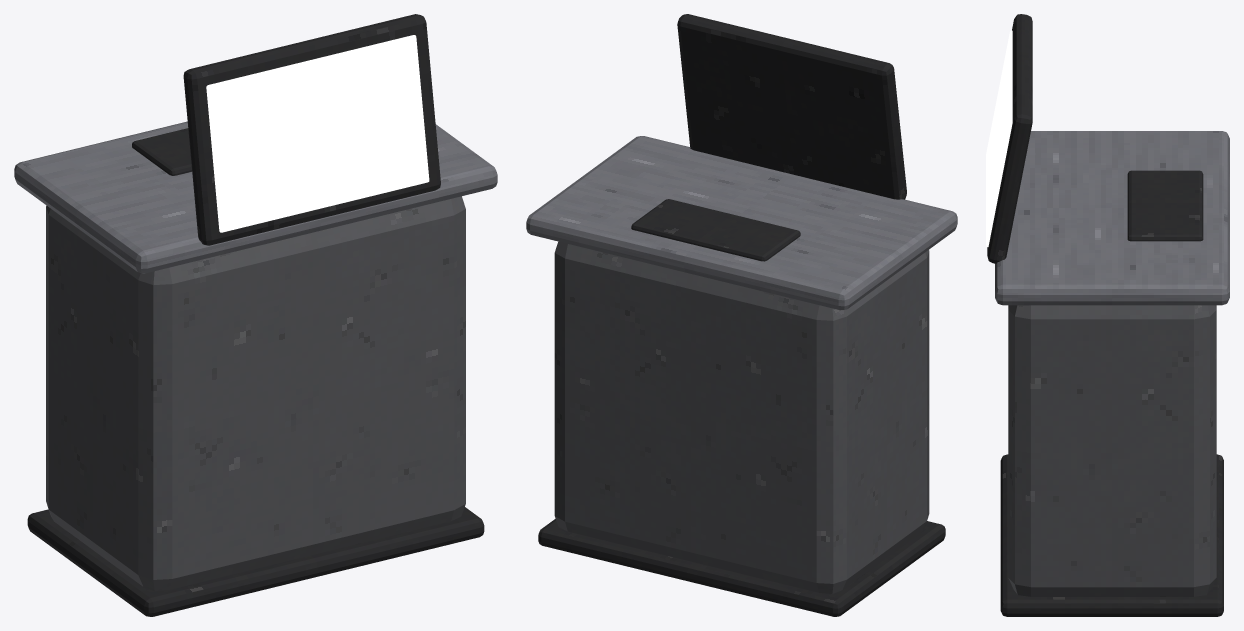
Rendered from decor_bridge_duty_station.glb.
3 views of the same model, side by side, from view 1: azimuth 30°, elevation 25°; view 2: azimuth 150°, elevation 25°; view 3: azimuth 270°, elevation 25° (orthographic). The views are drawn at different scales.
Visible parts, largest first — view 1: DEC_BridgeDutyStation__Console_Body, DEC_BridgeDutyStation__Screen_Glow, DEC_BridgeDutyStation__Desktop, DEC_BridgeDutyStation__Screen_Bezel, DEC_BridgeDutyStation__Base_Trim, DEC_BridgeDutyStation__Keyboard; view 2: DEC_BridgeDutyStation__Console_Body, DEC_BridgeDutyStation__Desktop, DEC_BridgeDutyStation__Screen_Bezel, DEC_BridgeDutyStation__Base_Trim, DEC_BridgeDutyStation__Keyboard; view 3: DEC_BridgeDutyStation__Console_Body, DEC_BridgeDutyStation__Desktop, DEC_BridgeDutyStation__Base_Trim, DEC_BridgeDutyStation__Keyboard, DEC_BridgeDutyStation__Screen_Bezel, DEC_BridgeDutyStation__Screen_Glow.
Part boxes in pixels (bbox=[...]): DEC_BridgeDutyStation__Console_Body: bbox=[46, 196, 465, 591]; DEC_BridgeDutyStation__Screen_Glow: bbox=[206, 35, 429, 232]; DEC_BridgeDutyStation__Desktop: bbox=[14, 121, 497, 273]; DEC_BridgeDutyStation__Screen_Bezel: bbox=[183, 14, 440, 245]; DEC_BridgeDutyStation__Base_Trim: bbox=[27, 507, 484, 616]; DEC_BridgeDutyStation__Keyboard: bbox=[132, 128, 192, 175]; DEC_BridgeDutyStation__Console_Body: bbox=[554, 241, 929, 593]; DEC_BridgeDutyStation__Desktop: bbox=[526, 136, 957, 310]; DEC_BridgeDutyStation__Screen_Bezel: bbox=[677, 14, 906, 199]; DEC_BridgeDutyStation__Base_Trim: bbox=[538, 519, 945, 616]; DEC_BridgeDutyStation__Keyboard: bbox=[631, 199, 800, 261]; DEC_BridgeDutyStation__Console_Body: bbox=[1008, 305, 1216, 596]; DEC_BridgeDutyStation__Desktop: bbox=[995, 131, 1229, 305]; DEC_BridgeDutyStation__Base_Trim: bbox=[1000, 454, 1223, 616]; DEC_BridgeDutyStation__Keyboard: bbox=[1127, 170, 1203, 241]; DEC_BridgeDutyStation__Screen_Bezel: bbox=[987, 14, 1032, 263]; DEC_BridgeDutyStation__Screen_Glow: bbox=[986, 30, 1012, 246].
Size of the model in its own units: 1 by 1.4 by 0.6432.
Materials: 6 (3 with a texture image).
